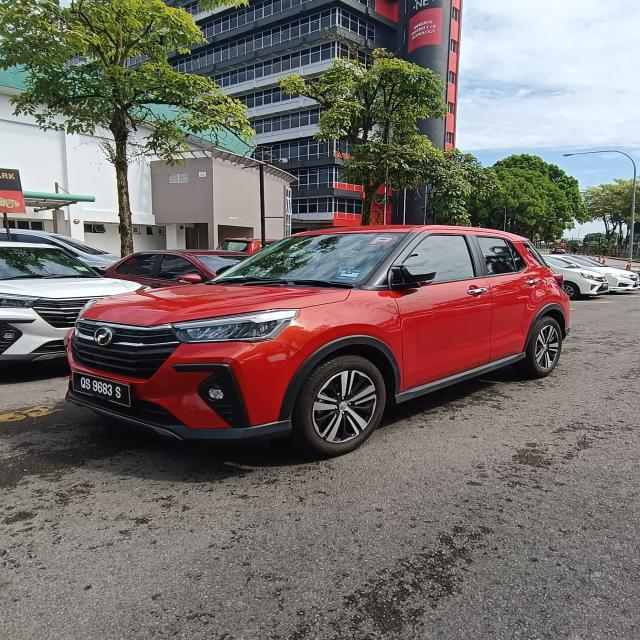PeroduaAtiva: (63, 222, 572, 458)
